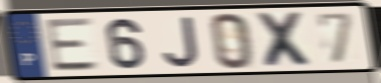0: (208, 11, 254, 71)
6: (104, 16, 149, 71)
7: (316, 11, 355, 66)
E: (42, 16, 103, 74)
J: (162, 15, 202, 69)
X: (253, 10, 318, 69)
